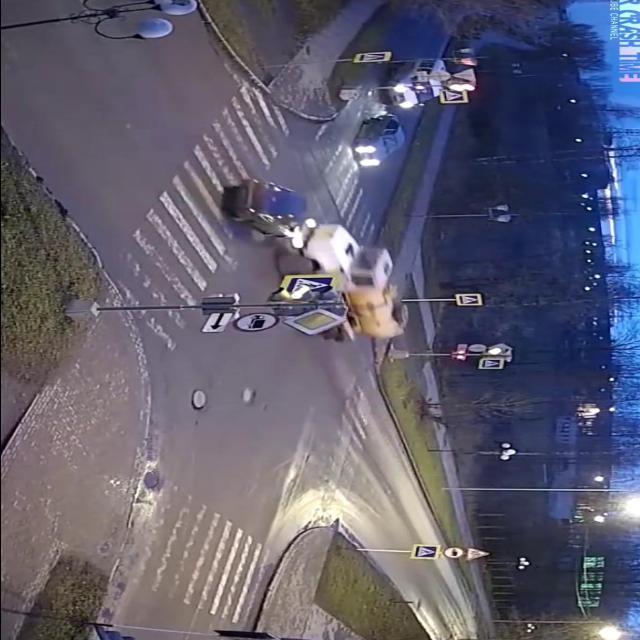accident: (210, 169, 417, 345)
